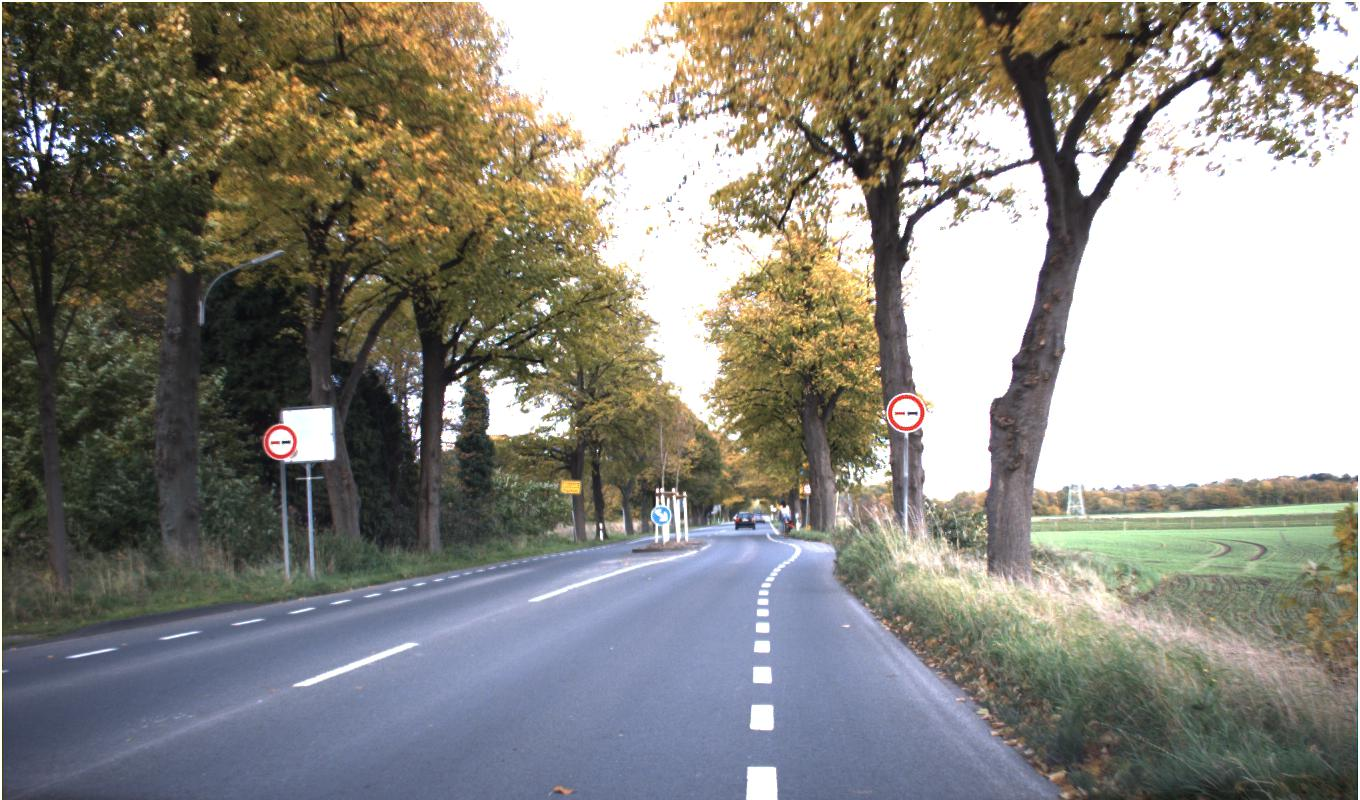mandatory: (650, 505, 671, 526)
prohibitory: (885, 392, 926, 432), (262, 423, 297, 460)
